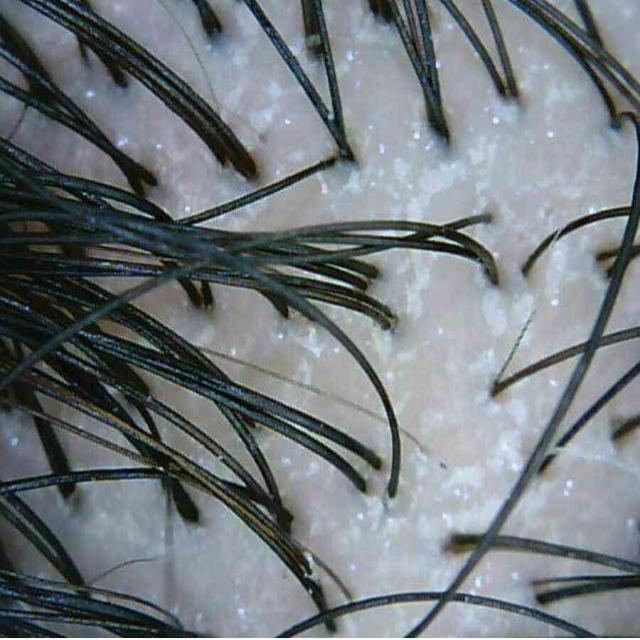d: (245, 81, 284, 133), (400, 173, 440, 221), (542, 69, 588, 110), (405, 256, 432, 321), (542, 246, 569, 303), (482, 289, 506, 337), (291, 324, 324, 357), (430, 159, 466, 189), (445, 466, 485, 491), (498, 426, 521, 460), (491, 99, 520, 125), (505, 396, 529, 426), (342, 164, 362, 196)
